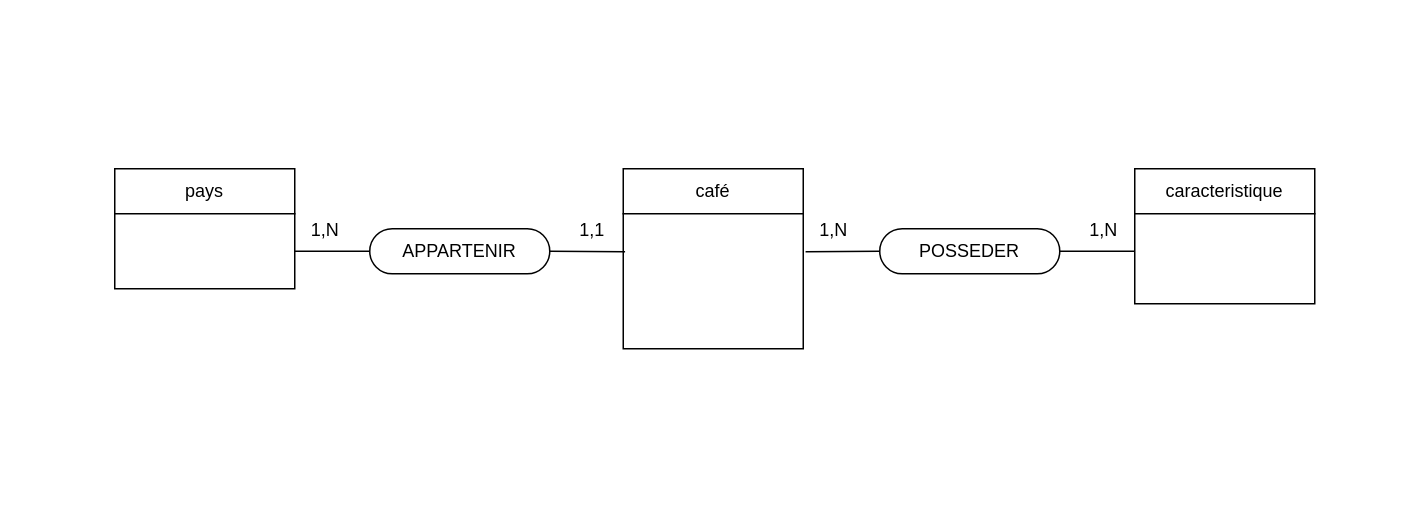
Image size: 1427x518. Some labels were removed from this diagram. Here are the shapes that lost their labels. From the top down, the centre of each, then its label:
point (204, 250): code pays origine
point (1224, 258): code caracteristique caract. principale
point (712, 280): réféfence nom descirption prix au kilo disponible
